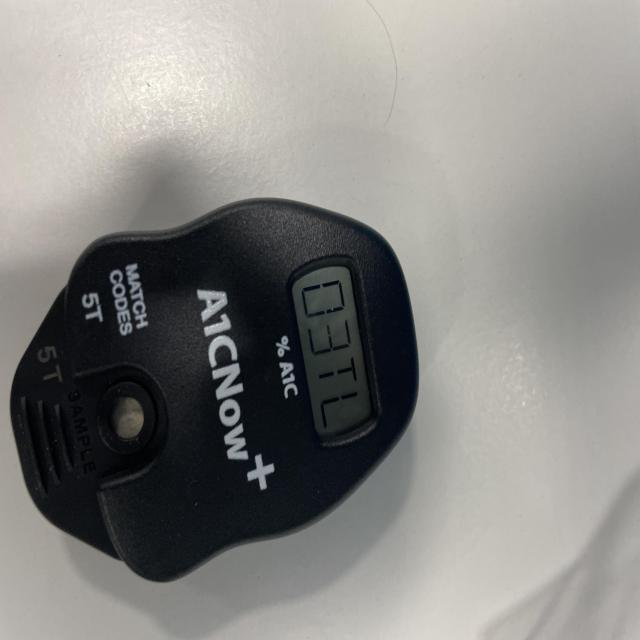hba1c: (10, 199, 420, 587)
